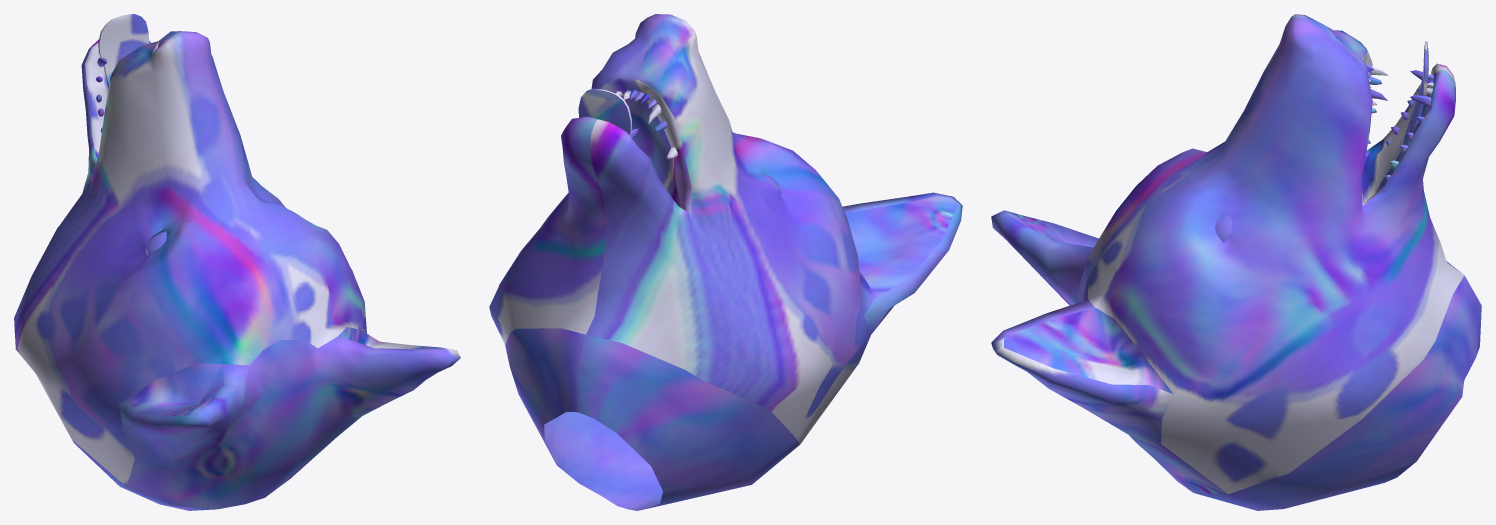
File: Headwear67.glb
3 renders of one model, left to right at view 1: azimuth 30°, elevation 25°; view 2: azimuth 150°, elevation 25°; view 3: azimuth 270°, elevation 25°, orthographic. The views are drawn at different scales.
Parts seen in each view (by area): view 1: Headwear67; view 2: Headwear67; view 3: Headwear67.
Boxes of the visible parts, bbox=[...] form: Headwear67: bbox=[14, 14, 460, 510]; Headwear67: bbox=[489, 14, 962, 510]; Headwear67: bbox=[991, 14, 1481, 510].
Size of the model in its own units: 2.12 by 3.13 by 2.88.
1 material, 1 textured.
